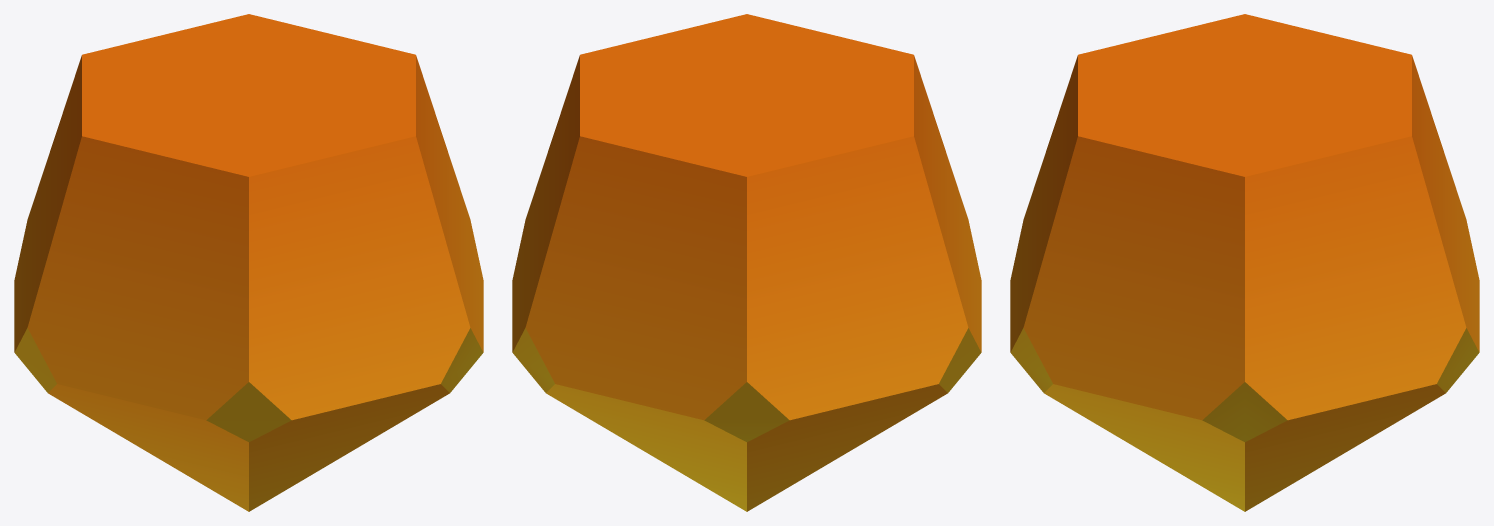
File: decor_016.fbx
The picture shows the model from 3 angles, left to right: view 1: azimuth 30°, elevation 25°; view 2: azimuth 150°, elevation 25°; view 3: azimuth 270°, elevation 25°; orthographic projection.
Parts seen in each view (by area): view 1: decor.016; view 2: decor.016; view 3: decor.016.
Boxes of the visible parts, x1,y1,x2,y2 form: decor.016: [14, 14, 483, 511]; decor.016: [512, 14, 981, 511]; decor.016: [1010, 14, 1479, 511].
Bounding box in the file's own units: 8.06 × 7.24 × 7.39.
